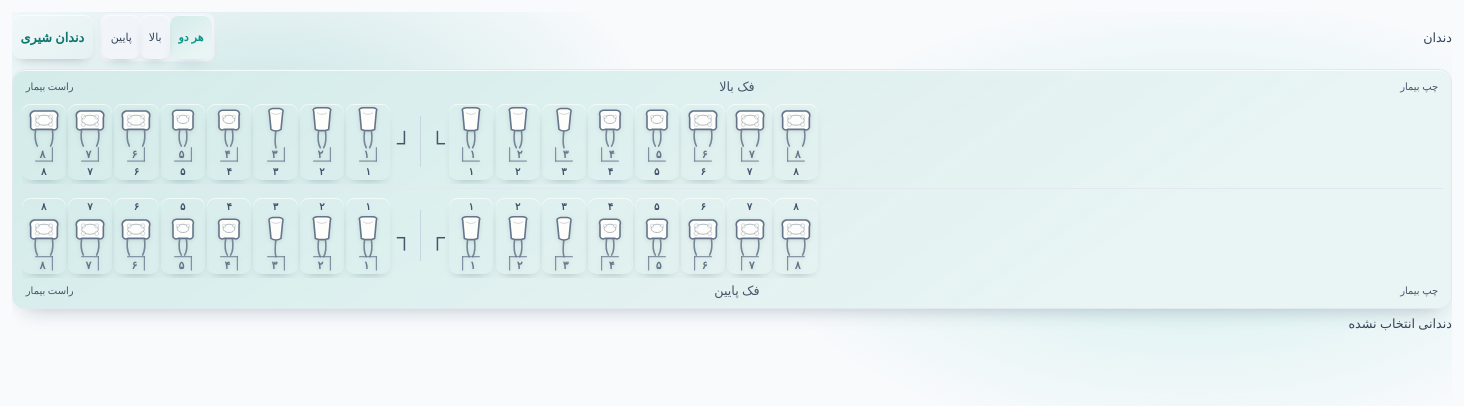
Test: انتخابگر دندان — تعامل واقعی › 🔴 حالت دندان شیری هم خط وسط دارد و ۲۰ دندان
Click the button "دندان شیری": (52, 37) [12,15,93,59]
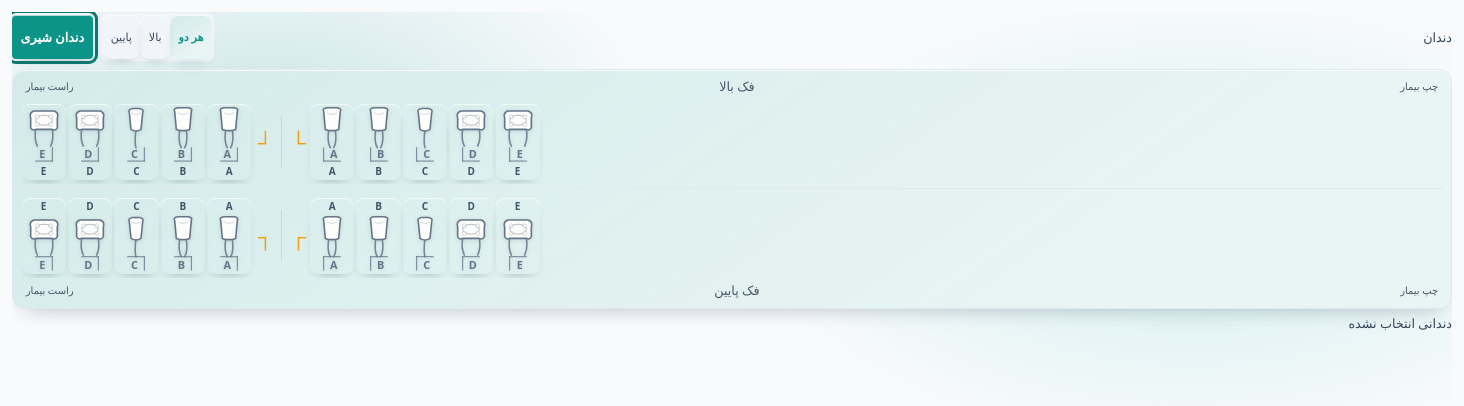
Result: the number of buttons "E E" is 20
